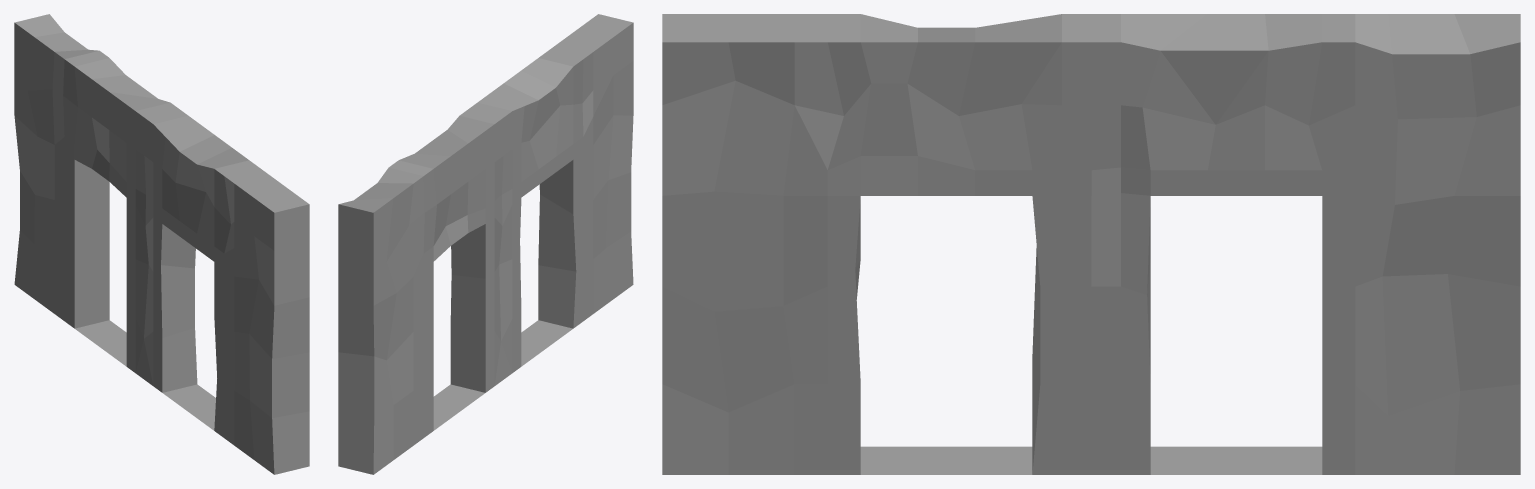
File: Fixed Mesh 14.fbx
The picture shows the model from 3 angles, left to right: view 1: azimuth 30°, elevation 25°; view 2: azimuth 150°, elevation 25°; view 3: azimuth 270°, elevation 25°; orthographic projection. The views are drawn at different scales.
Parts seen in each view (by area): view 1: Cube.105; view 2: Cube.105; view 3: Cube.105.
Boxes of the visible parts, x1,y1,x2,y2 form: Cube.105: (14,14,309,474); Cube.105: (338,14,633,474); Cube.105: (662,14,1520,474).
Size of the model in its own units: 62.24 by 428 by 770.
